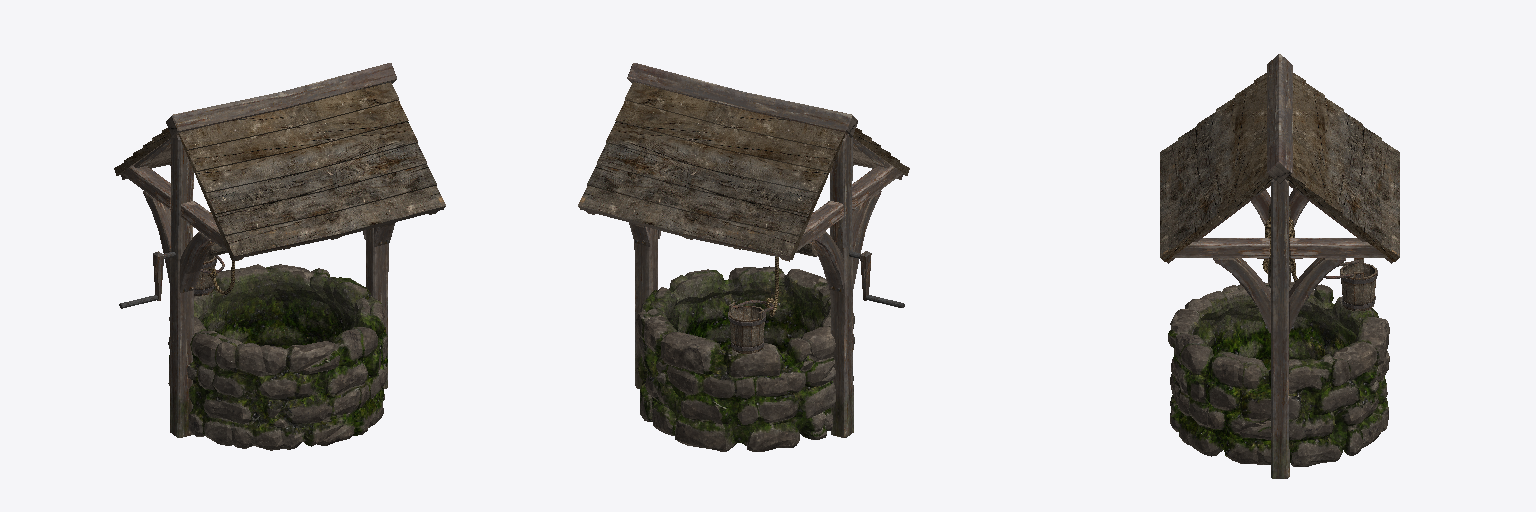
The picture shows the model from 3 angles: view 1: azimuth 30°, elevation 25°; view 2: azimuth 150°, elevation 25°; view 3: azimuth 270°, elevation 25°; orthographic projection.
Visible parts, largest first — view 1: Well_LP_Well_0, Well_LP_Roof_0, Well_LP_Bucket_0; view 2: Well_LP_Well_0, Well_LP_Roof_0, Well_LP_Bucket_0; view 3: Well_LP_Well_0, Well_LP_Roof_0, Well_LP_Bucket_0.
Boxes of the visible parts, <box> form: Well_LP_Well_0: <box>117,63,445,450</box>; Well_LP_Roof_0: <box>114,82,445,259</box>; Well_LP_Bucket_0: <box>194,255,224,295</box>; Well_LP_Well_0: <box>578,63,906,451</box>; Well_LP_Roof_0: <box>578,82,909,259</box>; Well_LP_Bucket_0: <box>728,300,773,353</box>; Well_LP_Well_0: <box>1167,54,1392,478</box>; Well_LP_Roof_0: <box>1160,73,1399,261</box>; Well_LP_Bucket_0: <box>1324,258,1377,310</box>.
Size of the model in its own units: 235 by 268 by 181.
4 materials, 4 textured.